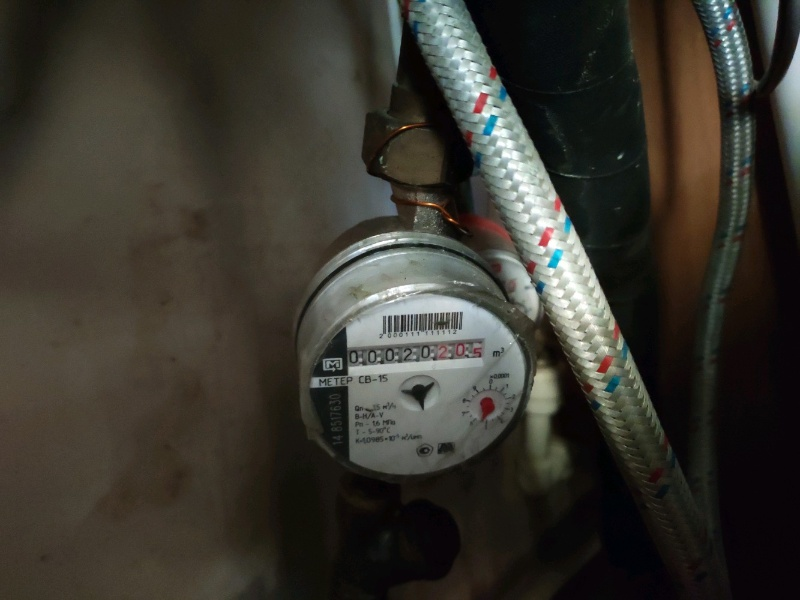meter: (341, 339, 489, 363)
